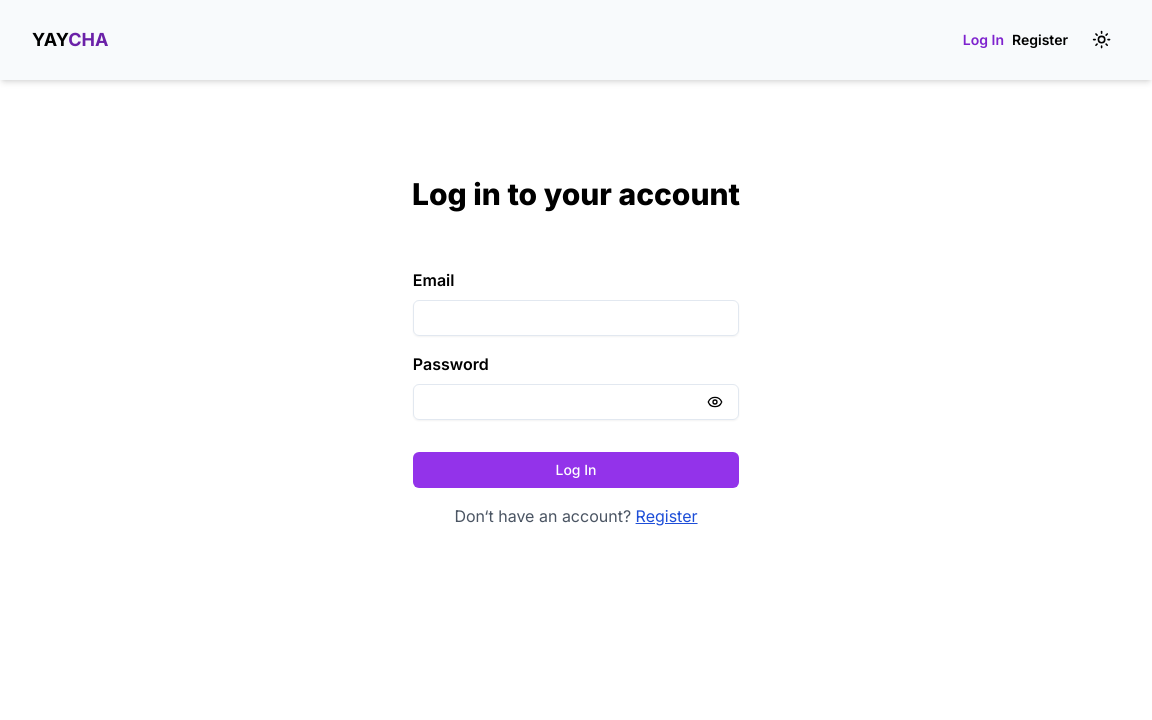
Scenario: Login Page › should show an error for incorrect credentials
// Simulate entering invalid credentials
In the field named "email": (576, 318) [413, 300, 739, 336], type "wronguser@example.com"
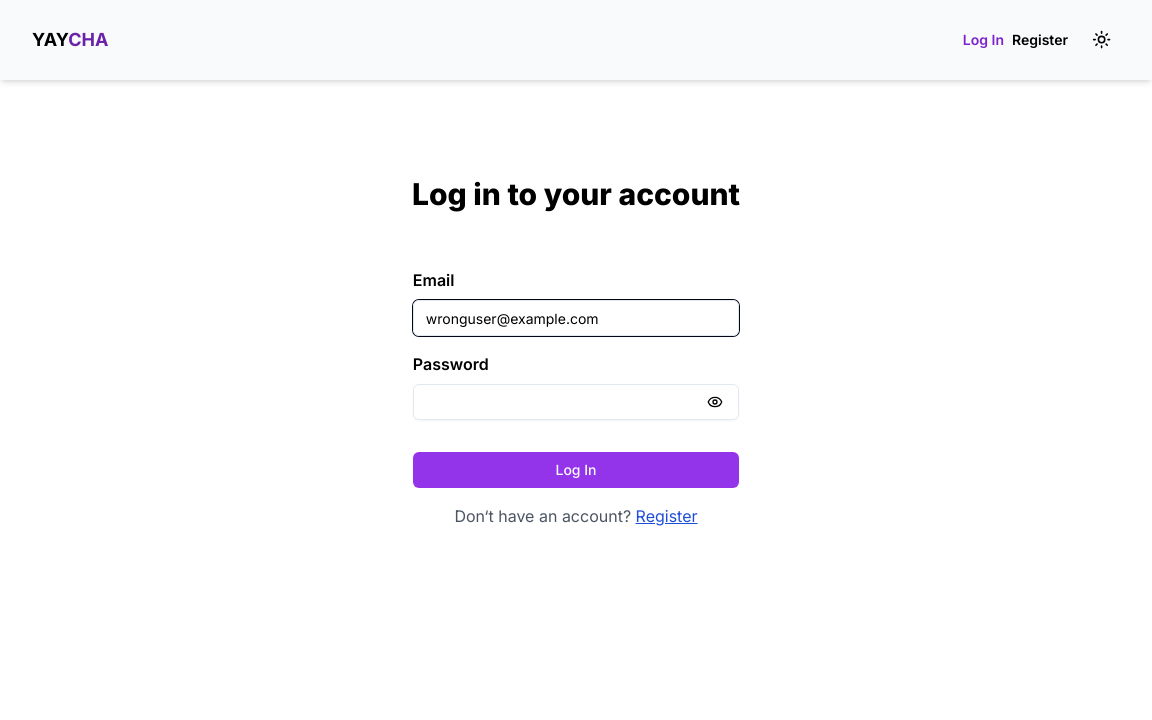
In the password field named "password": (576, 402) [413, 384, 739, 420], type "wrongpassword"
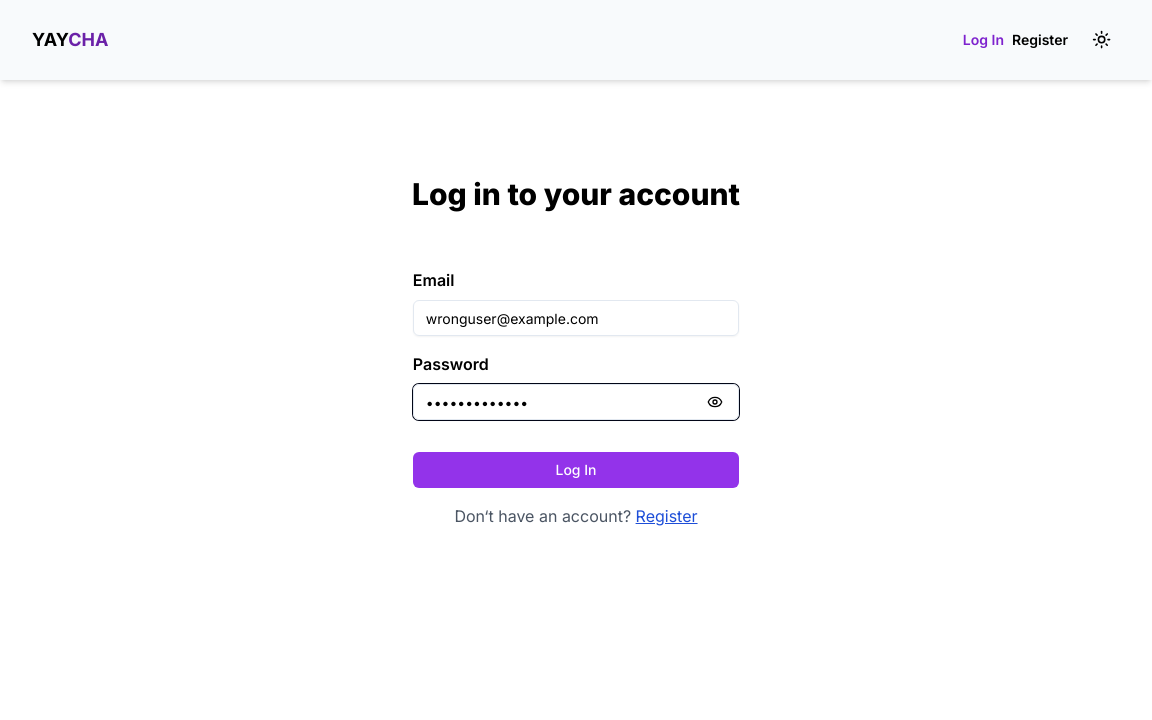
Click the submit button: (576, 470) [413, 452, 739, 488]
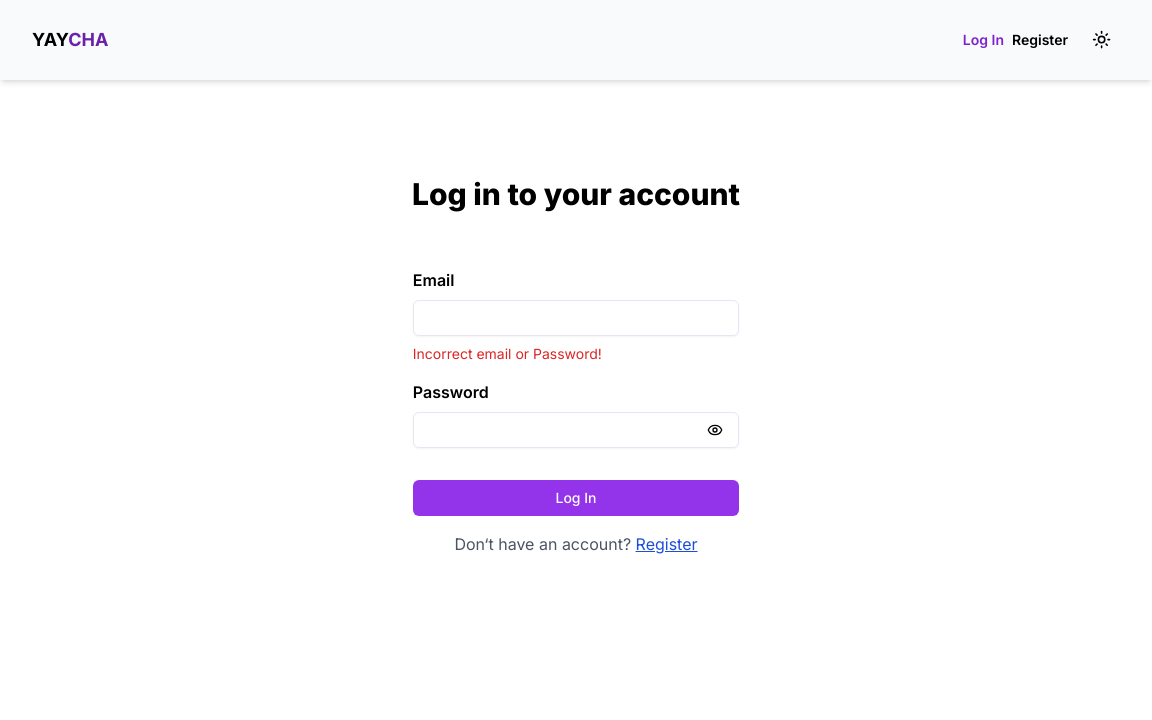
Now the text "Incorrect email or Password!" is shown, box [413, 345, 602, 362]
